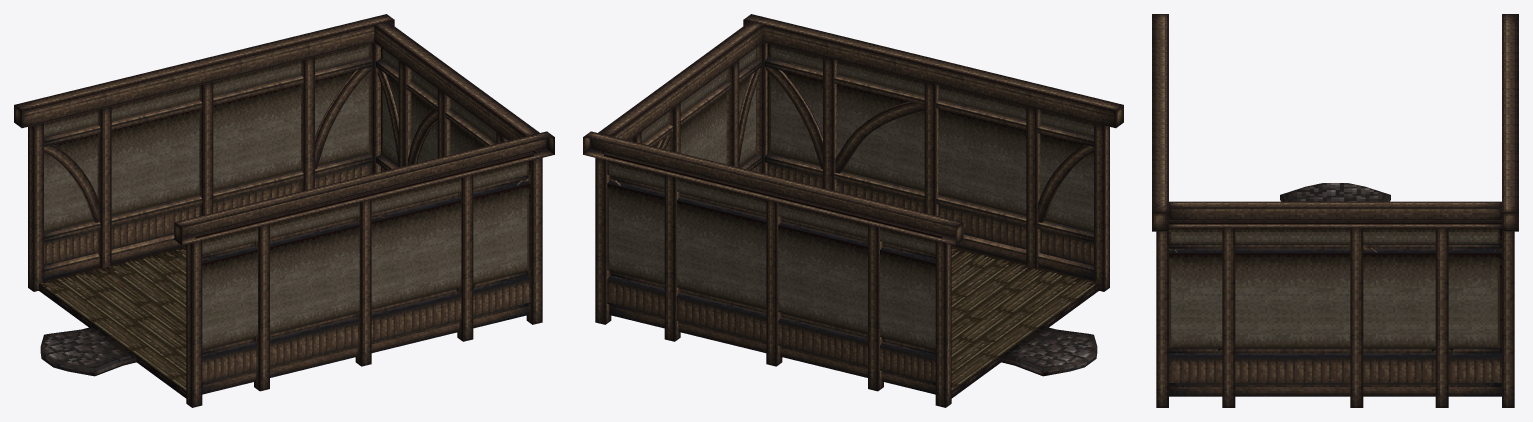
File: EnvBdgMD_Mount_A_Indoor_House_D.FBX
3 views of the same model, side by side, from view 1: azimuth 30°, elevation 25°; view 2: azimuth 150°, elevation 25°; view 3: azimuth 270°, elevation 25° (orthographic). The views are drawn at different scales.
Parts seen in each view (by area): view 1: EnvBdgMD_Mount_A_Indoor_House_D; view 2: EnvBdgMD_Mount_A_Indoor_House_D; view 3: EnvBdgMD_Mount_A_Indoor_House_D.
Boxes of the visible parts, x1,y1,x2,y2 form: EnvBdgMD_Mount_A_Indoor_House_D: (14, 14, 554, 407); EnvBdgMD_Mount_A_Indoor_House_D: (583, 14, 1123, 407); EnvBdgMD_Mount_A_Indoor_House_D: (1152, 14, 1518, 407).
Size of the model in its own units: 1250 by 520 by 860.
1 material, 1 textured.
